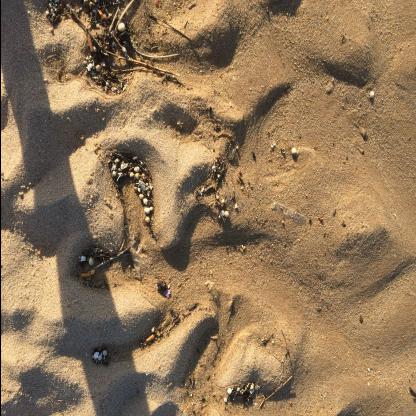kopuk: (80, 274, 90, 278)
